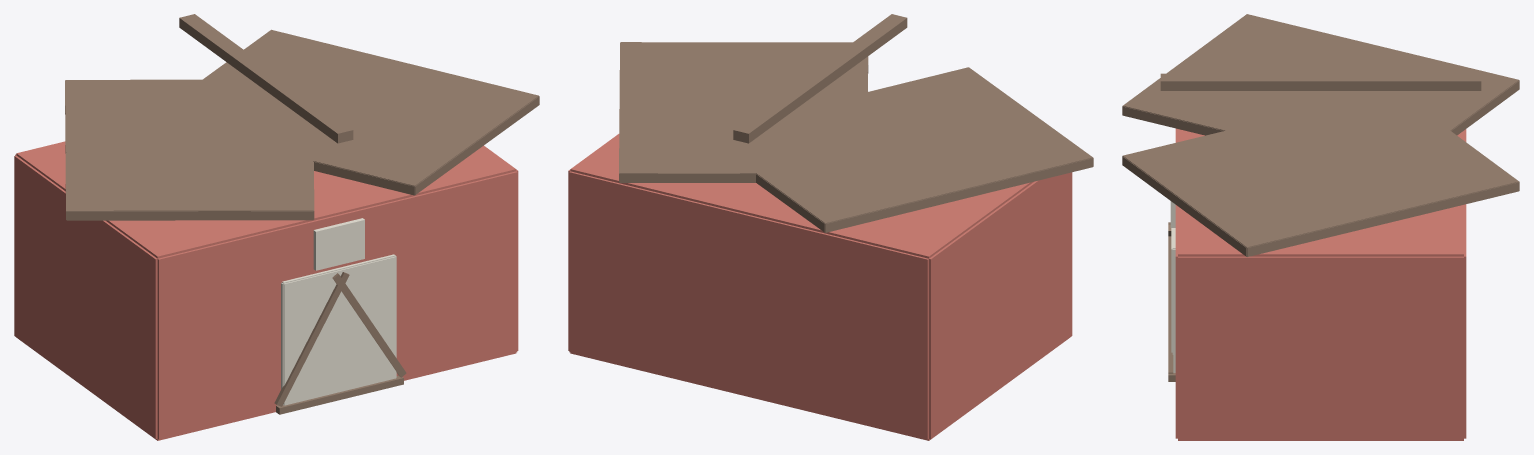
File: barn.glb
3 renders of one model, left to right at view 1: azimuth 30°, elevation 25°; view 2: azimuth 150°, elevation 25°; view 3: azimuth 270°, elevation 25°, orthographic.
Visible parts, largest first — view 1: Body, Roof_R, Roof_L, Door, Ridge, Loft, Brace_B, Sill, Brace_A; view 2: Body, Roof_L, Roof_R, Ridge; view 3: Body, Roof_L, Roof_R, Ridge, Door, Brace_A.
Part boxes in pixels (left/top/right/bottom): Body: left=14, top=141, right=518, bottom=440; Roof_R: left=65, top=79, right=314, bottom=220; Roof_L: left=147, top=29, right=539, bottom=195; Door: left=281, top=254, right=396, bottom=405; Ridge: left=179, top=14, right=353, bottom=143; Loft: left=313, top=218, right=364, bottom=270; Brace_B: left=274, top=272, right=349, bottom=406; Sill: left=276, top=376, right=403, bottom=414; Brace_A: left=332, top=273, right=406, bottom=377; Body: left=568, top=134, right=1072, bottom=440; Roof_L: left=619, top=42, right=868, bottom=182; Roof_R: left=756, top=67, right=1093, bottom=232; Ridge: left=733, top=14, right=907, bottom=143; Body: left=1175, top=128, right=1466, bottom=440; Roof_L: left=1122, top=91, right=1519, bottom=256; Roof_R: left=1122, top=14, right=1519, bottom=171; Ridge: left=1160, top=73, right=1481, bottom=90; Door: left=1171, top=228, right=1175, bottom=372; Brace_A: left=1168, top=222, right=1173, bottom=373.
Size of the model in its own units: 9.14 by 5.01 by 6.56.
